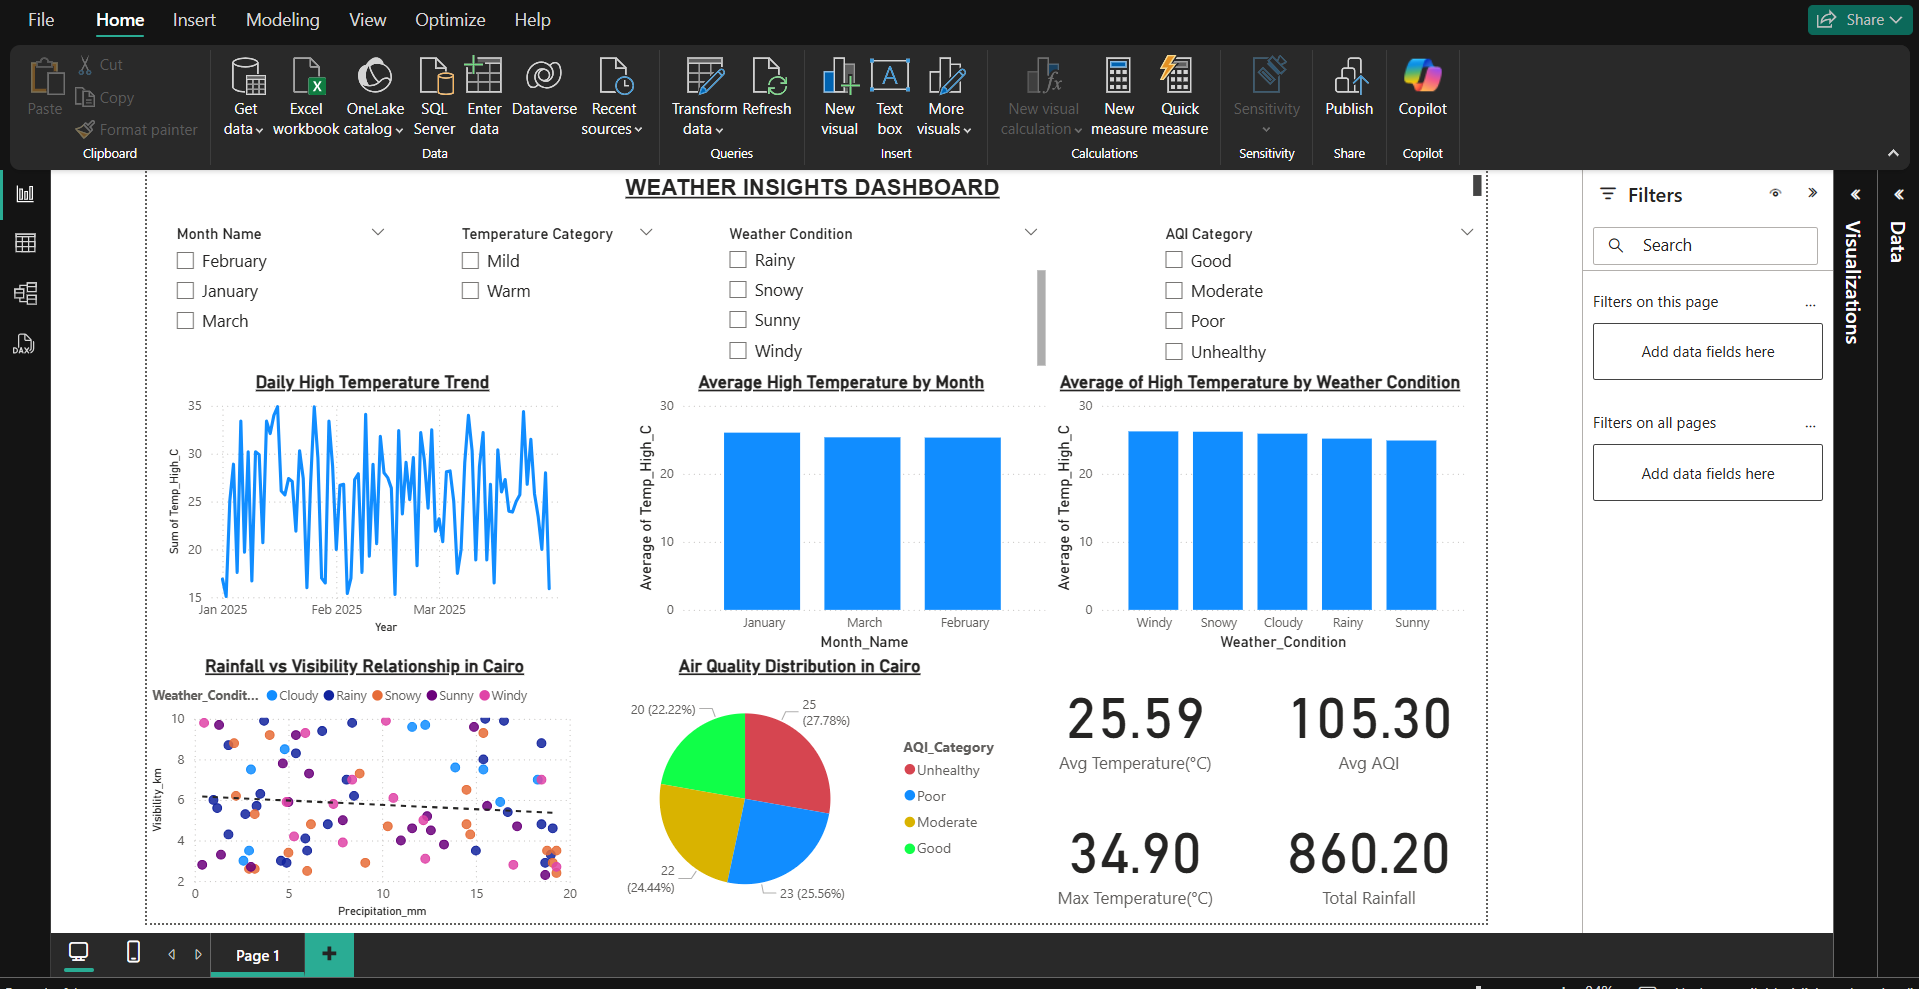

The page's visual inventory and layout, read from the dashboard file:
{"tool":"powerbi","page":{"name":"Page 1","canvas":[1280,720],"ordinal":0},"visuals":[{"type":"lineChart","title":"Daily High Temperature Trend","fields":{"Category":["Weather_Data.Date.Variation.Date Hierarchy.Year","Weather_Data.Date.Variation.Date Hierarchy.Quarter","Weather_Data.Date.Variation.Date Hierarchy.Month","Weather_Data.Date.Variation.Date Hierarchy.Day"],"Y":["Sum(Weather_Data.Temp_High_C)"]},"box":[16,192,400,256],"z":0},{"type":"clusteredColumnChart","title":"Average High Temperature by Month","fields":{"Category":["Weather_Data.Month_Name"],"Y":["Avg(Weather_Data.Temp_High_C)"]},"box":[464,192,400,272],"z":1000},{"type":"clusteredColumnChart","title":"Average of High Temperature by Weather Condition","fields":{"Y":["Avg(Weather_Data.Temp_High_C)"],"Category":["Weather_Data.Weather_Condition"]},"box":[864,192,400,272],"z":2000},{"type":"pieChart","title":"Air Quality Distribution in Cairo","fields":{"Category":["Weather_Data.AQI_Category"],"Y":["CountNonNull(Weather_Data.Date)"]},"box":[416,464,416,256],"z":3000},{"type":"scatterChart","title":"Rainfall vs Visibility Relationship in Cairo","fields":{"X":["Weather_Data.Precipitation_mm"],"Y":["Weather_Data.Visibility_km"],"Series":["Weather_Data.Weather_Condition"]},"box":[0,464,416,256],"z":4000},{"type":"card","fields":{"Values":["Avg(Weather_Data.Temp_High_C)"]},"box":[832,464,224,128],"z":5000},{"type":"card","fields":{"Values":["Max(Weather_Data.Temp_High_C)"]},"box":[832,592,224,128],"z":6000},{"type":"card","fields":{"Values":["Avg(Weather_Data.Air_Quality_Index)"]},"box":[1056,464,224,128],"z":7000},{"type":"card","fields":{"Values":["Sum(Weather_Data.Precipitation_mm)"]},"box":[1056,592,224,128],"z":8000},{"type":"slicer","fields":{"Values":["Weather_Data.Month_Name"]},"box":[16,48,224,128],"z":9000},{"type":"slicer","fields":{"Values":["Weather_Data.Weather_Condition"]},"box":[544,48,320,144],"z":10000},{"type":"slicer","fields":{"Values":["Weather_Data.Temp_Category"]},"box":[288,48,208,128],"z":11000},{"type":"slicer","fields":{"Values":["Weather_Data.AQI_Category"]},"box":[960,48,320,144],"z":12000},{"type":"textbox","box":[0,0,1280,32],"z":13000}]}

Visuals, with their boxes on the page's 1280x720 design canvas (x1, y1, x2, y2). These are canvas units, not pixel positions in the 1919x989 screenshot, which may show the page scaled, cropped or inside an application window:
"Daily High Temperature Trend" lineChart: 16/192/416/448
"Average High Temperature by Month" clusteredColumnChart: 464/192/864/464
"Average of High Temperature by Weather Condition" clusteredColumnChart: 864/192/1264/464
"Air Quality Distribution in Cairo" pieChart: 416/464/832/720
"Rainfall vs Visibility Relationship in Cairo" scatterChart: 0/464/416/720
card - Avg(Weather_Data.Temp_High_C): 832/464/1056/592
card - Max(Weather_Data.Temp_High_C): 832/592/1056/720
card - Avg(Weather_Data.Air_Quality_Index): 1056/464/1280/592
card - Sum(Weather_Data.Precipitation_mm): 1056/592/1280/720
slicer - Weather_Data.Month_Name: 16/48/240/176
slicer - Weather_Data.Weather_Condition: 544/48/864/192
slicer - Weather_Data.Temp_Category: 288/48/496/176
slicer - Weather_Data.AQI_Category: 960/48/1280/192
textbox: 0/0/1280/32
